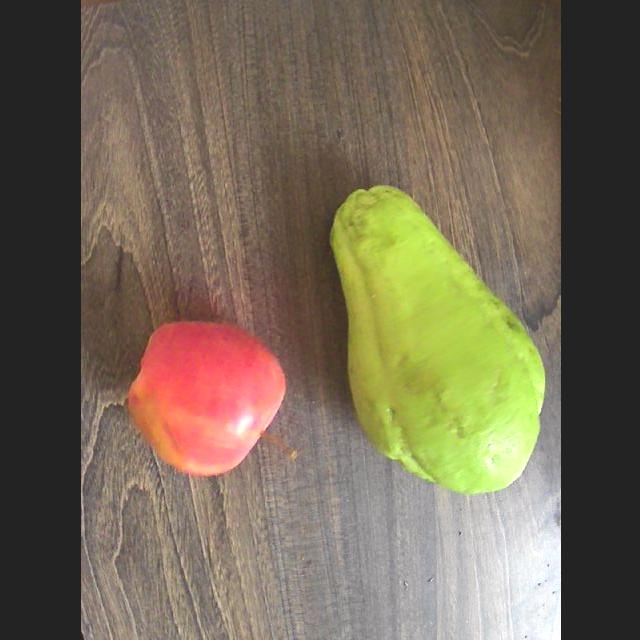chayote: (330, 185, 544, 494)
manzana: (128, 321, 285, 475)
